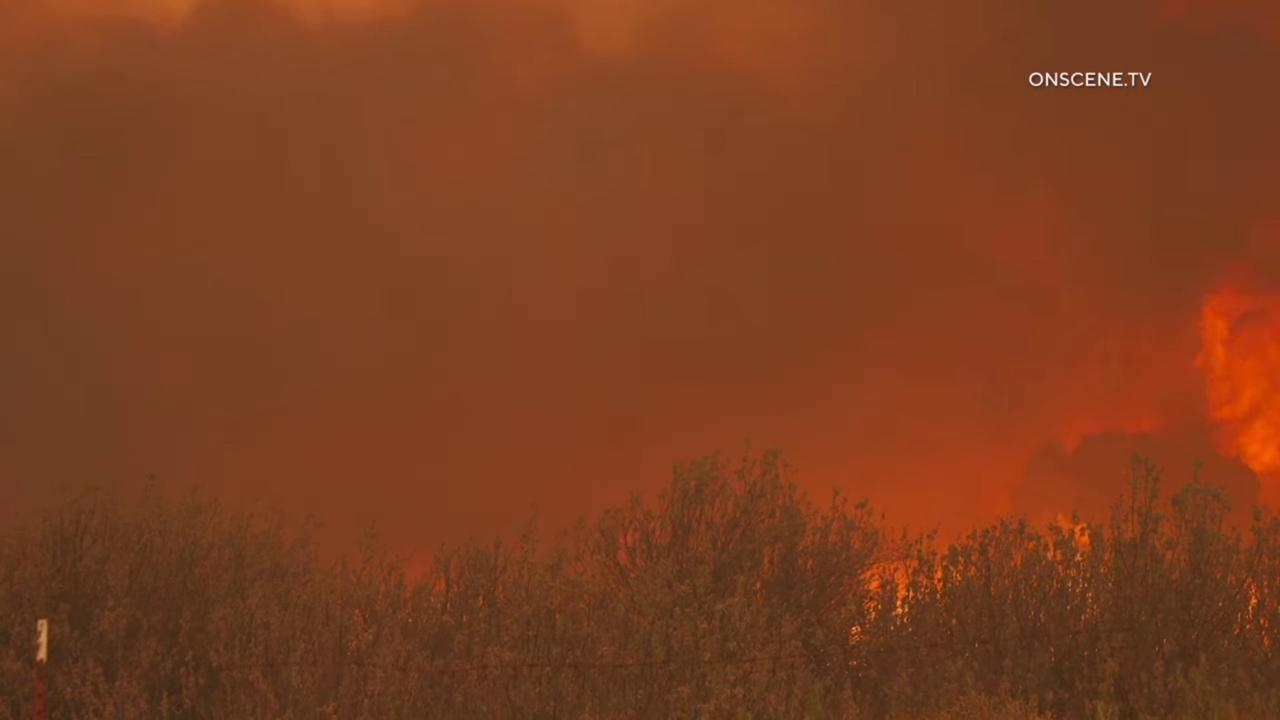fire: (834, 504, 1101, 641), (1176, 255, 1280, 496)
smoke: (0, 0, 1280, 663)
